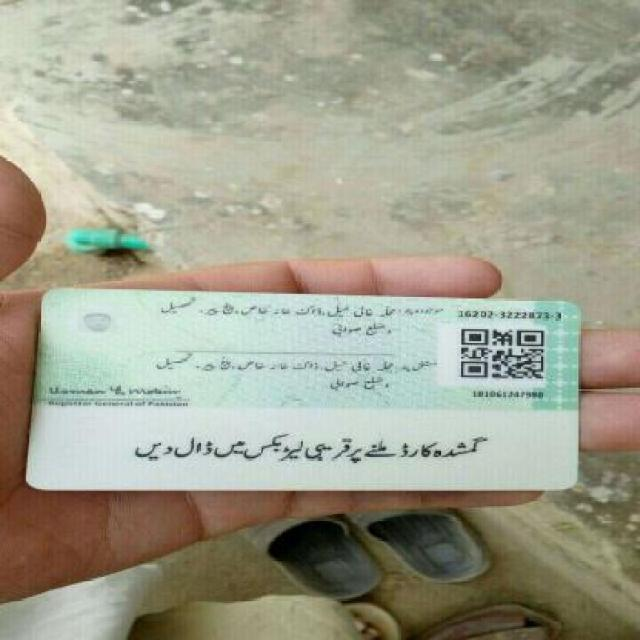Back: (12, 280, 597, 525)
